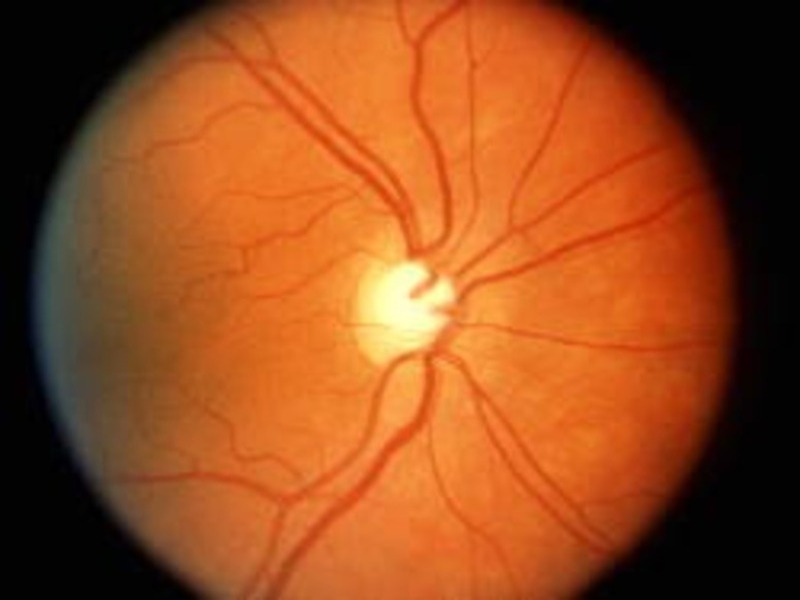Optic Cup: (383, 264, 449, 346)
Optic Disc: (351, 258, 462, 373)
